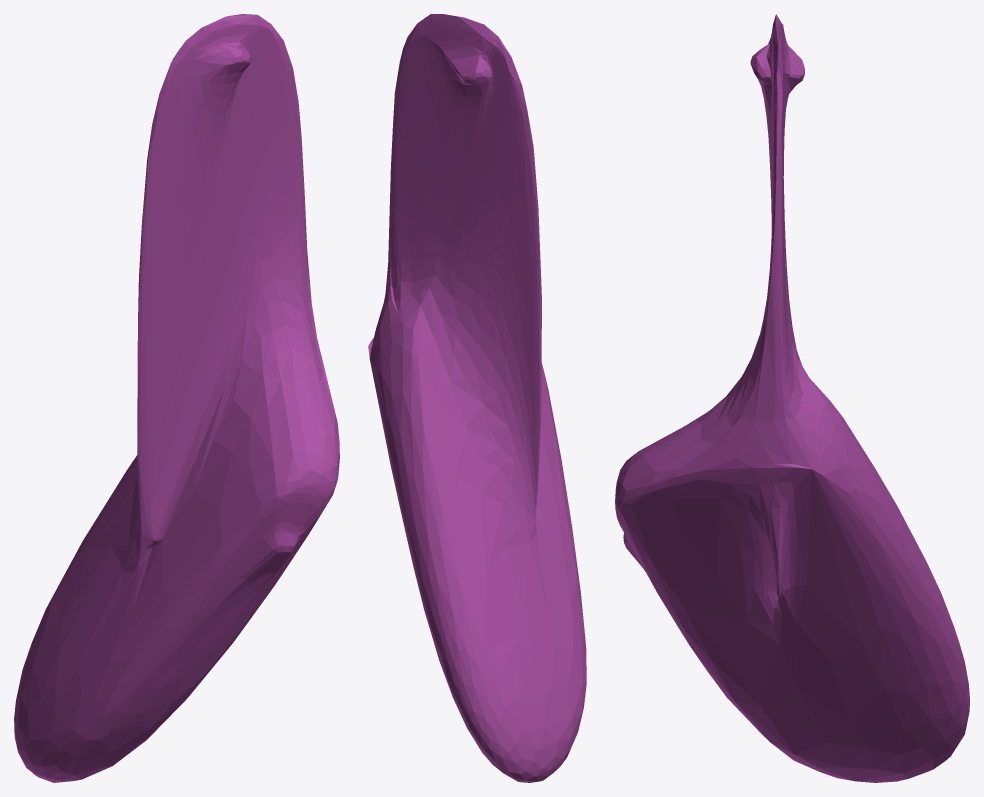
3 views of the same model, side by side, from view 1: azimuth 30°, elevation 25°; view 2: azimuth 150°, elevation 25°; view 3: azimuth 270°, elevation 25° (orthographic). The views are drawn at different scales.
Parts seen in each view (by area): view 1: 145_Cube.604; view 2: 145_Cube.604; view 3: 145_Cube.604.
Boxes of the visible parts, bbox=[...] form: 145_Cube.604: bbox=[14, 14, 339, 782]; 145_Cube.604: bbox=[368, 14, 586, 782]; 145_Cube.604: bbox=[615, 14, 969, 782].
Size of the model in its own units: 5.86 by 17.83 by 6.92.
